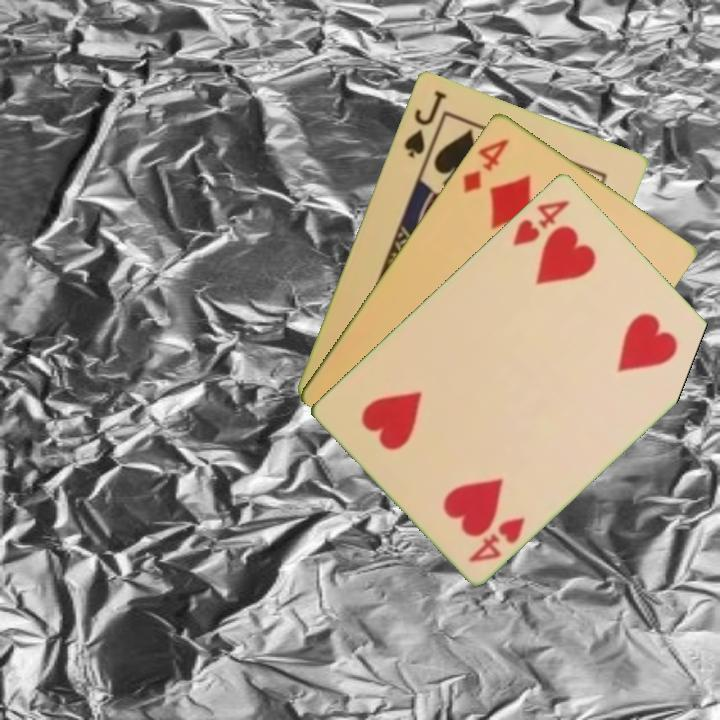4d: (459, 134, 512, 196)
4h: (509, 195, 572, 249), (465, 512, 529, 565)
Js: (400, 86, 449, 161)
